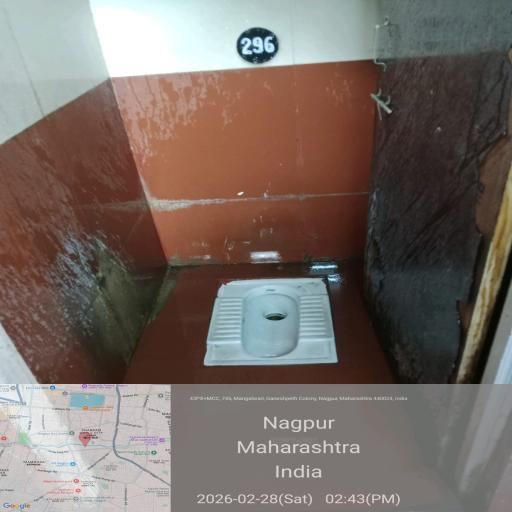clean_floor: (0, 1, 365, 199), (142, 214, 371, 396), (376, 16, 502, 334)
partial_dirty_floor: (55, 231, 152, 358), (215, 276, 338, 364)
